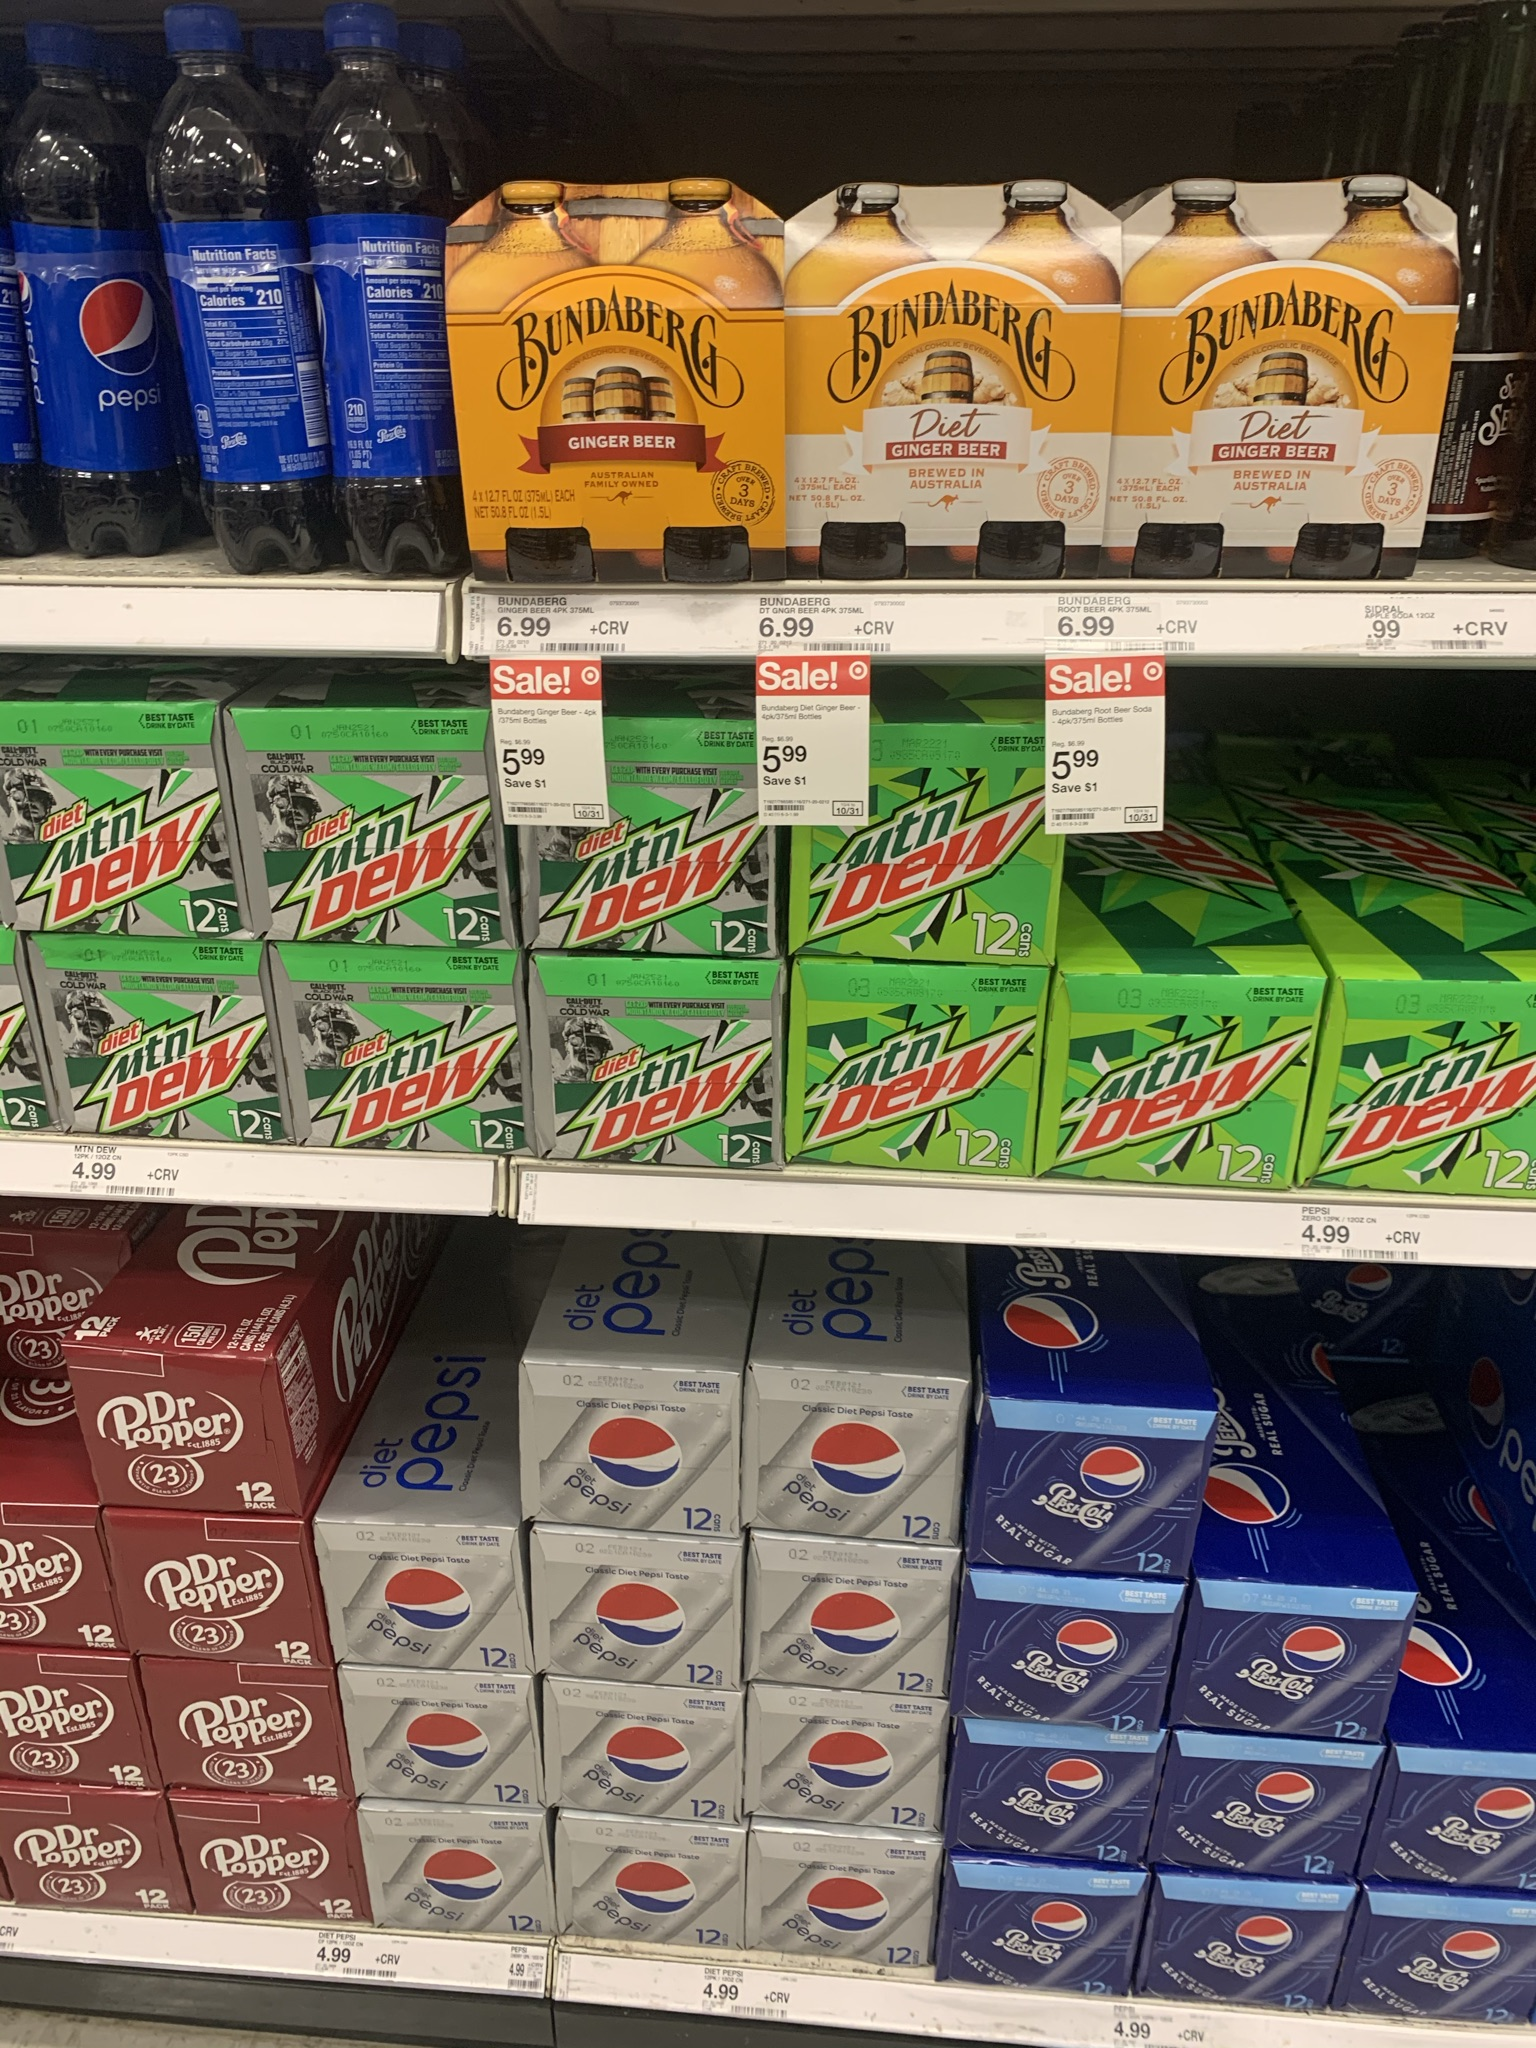bundaberg soda: (452, 198, 774, 584), (1139, 197, 1452, 585), (816, 189, 1104, 560)
dr pepper soda: (82, 1371, 324, 1945)
mountain dew soda: (815, 724, 1058, 964), (237, 721, 508, 929), (549, 966, 802, 1185), (2, 721, 244, 943), (274, 956, 539, 1155), (1058, 997, 1325, 1184), (544, 748, 784, 943), (1342, 980, 1530, 1179), (37, 966, 274, 1121), (970, 1116, 1039, 1174)
pepsi soda: (34, 53, 470, 566), (332, 1542, 561, 1945), (544, 1361, 952, 1535), (1189, 1892, 1536, 2038), (984, 1406, 1187, 1576), (532, 1550, 729, 1700), (1176, 1738, 1388, 1866), (1207, 1600, 1409, 1724), (971, 1596, 1171, 1719), (733, 1843, 920, 1974), (958, 1742, 1149, 1866), (552, 1711, 737, 1837), (947, 1888, 1158, 1996), (765, 1555, 937, 1684), (757, 1714, 947, 1816)
